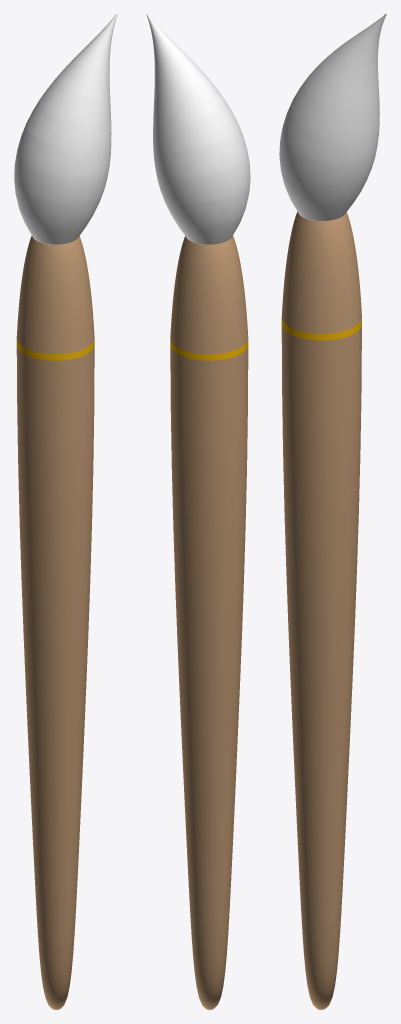
Rendered from Brush_Standard.fbx.
The picture shows the model from 3 angles, left to right: view 1: azimuth 30°, elevation 25°; view 2: azimuth 150°, elevation 25°; view 3: azimuth 330°, elevation 25°; orthographic projection. The views are drawn at different scales.
Parts seen in each view (by area): view 1: Group2, Tip, Group1, Group3; view 2: Group2, Tip, Group1, Group3; view 3: Group2, Tip, Group1, Group3.
Boxes of the visible parts, box(x1,y1,x2,y2) form: Group2: box(16, 345, 94, 1009); Tip: box(14, 14, 117, 244); Group1: box(16, 235, 94, 354); Group3: box(16, 338, 94, 360); Group2: box(170, 345, 248, 1009); Tip: box(146, 14, 250, 244); Group1: box(170, 236, 248, 354); Group3: box(170, 339, 248, 360); Group2: box(281, 324, 361, 1009); Tip: box(279, 14, 386, 220); Group1: box(281, 211, 361, 333); Group3: box(281, 318, 361, 340).
Bounding box in the file's own units: 0.0262 × 0.2508 × 0.0218.
